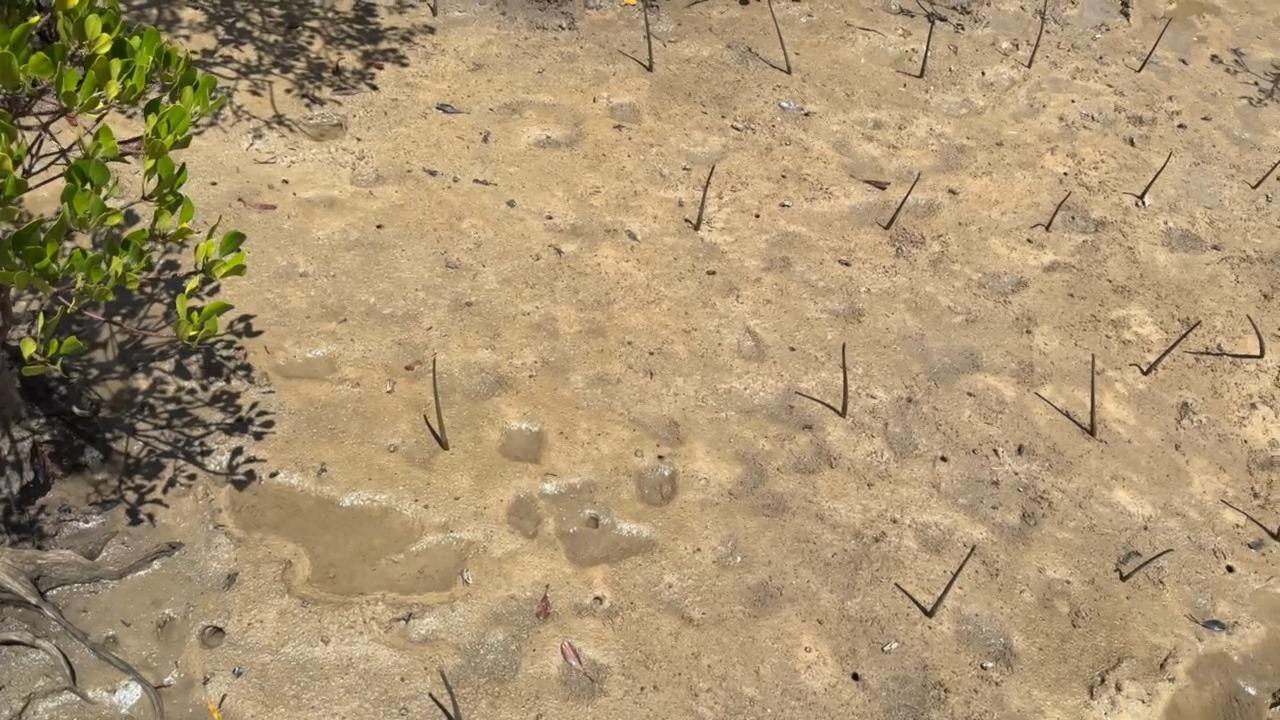Tree: (1129, 319, 1201, 376), (928, 544, 977, 618), (885, 172, 920, 229), (1137, 17, 1173, 72), (1120, 549, 1174, 583), (767, 0, 791, 74), (430, 357, 448, 448), (695, 164, 717, 232), (916, 0, 935, 78), (1139, 152, 1172, 196), (1028, 0, 1047, 69), (439, 670, 463, 720), (1045, 191, 1071, 229), (1245, 312, 1266, 358), (641, 0, 654, 72), (1252, 159, 1280, 189), (1090, 352, 1098, 438), (840, 341, 849, 417), (432, 0, 438, 17)
